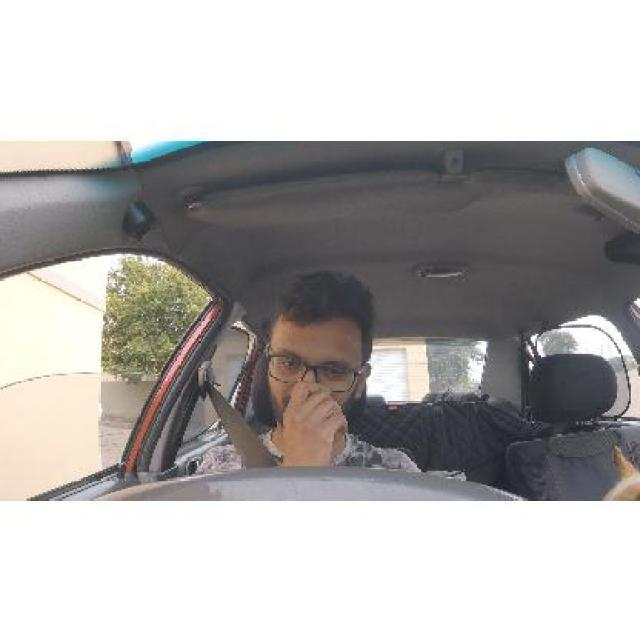person: (273, 288, 371, 420)
